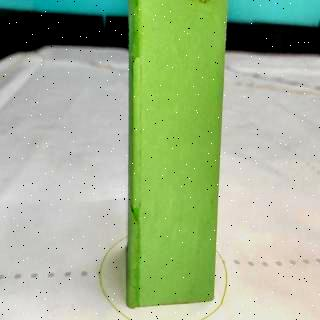greenbox: (128, 2, 227, 310)
